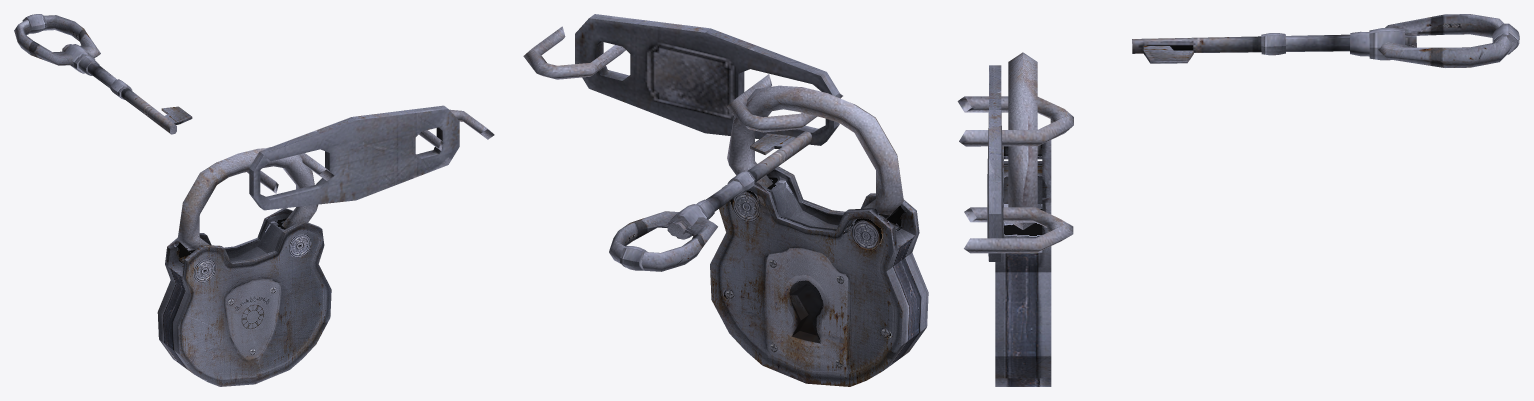
File: keyset_2.FBX
3 renders of one model, left to right at view 1: azimuth 30°, elevation 25°; view 2: azimuth 150°, elevation 25°; view 3: azimuth 270°, elevation 25°, orthographic. The views are drawn at different scales.
Parts seen in each view (by area): view 1: lock2_lod0, stoper2_lod0, key2_lod0, lockring2_lod0; view 2: lock2_lod0, stoper2_lod0, lockring2_lod0, key2_lod0; view 3: key2_lod0, lock2_lod0, stoper2_lod0, lockring2_lod0.
Part boxes in pixels (bbox=[...]): lock2_lod0: bbox=[157, 208, 331, 386]; stoper2_lod0: bbox=[247, 105, 494, 210]; key2_lod0: bbox=[14, 14, 192, 134]; lockring2_lod0: bbox=[177, 148, 318, 252]; lock2_lod0: bbox=[710, 166, 928, 386]; stoper2_lod0: bbox=[523, 14, 842, 145]; lockring2_lod0: bbox=[727, 85, 903, 218]; key2_lod0: bbox=[609, 131, 811, 271]; key2_lod0: bbox=[1132, 14, 1519, 67]; lock2_lod0: bbox=[995, 140, 1051, 386]; stoper2_lod0: bbox=[957, 65, 1073, 261]; lockring2_lod0: bbox=[1008, 52, 1037, 229].
Size of the model in its own units: 35.92 by 27.19 by 42.33.
